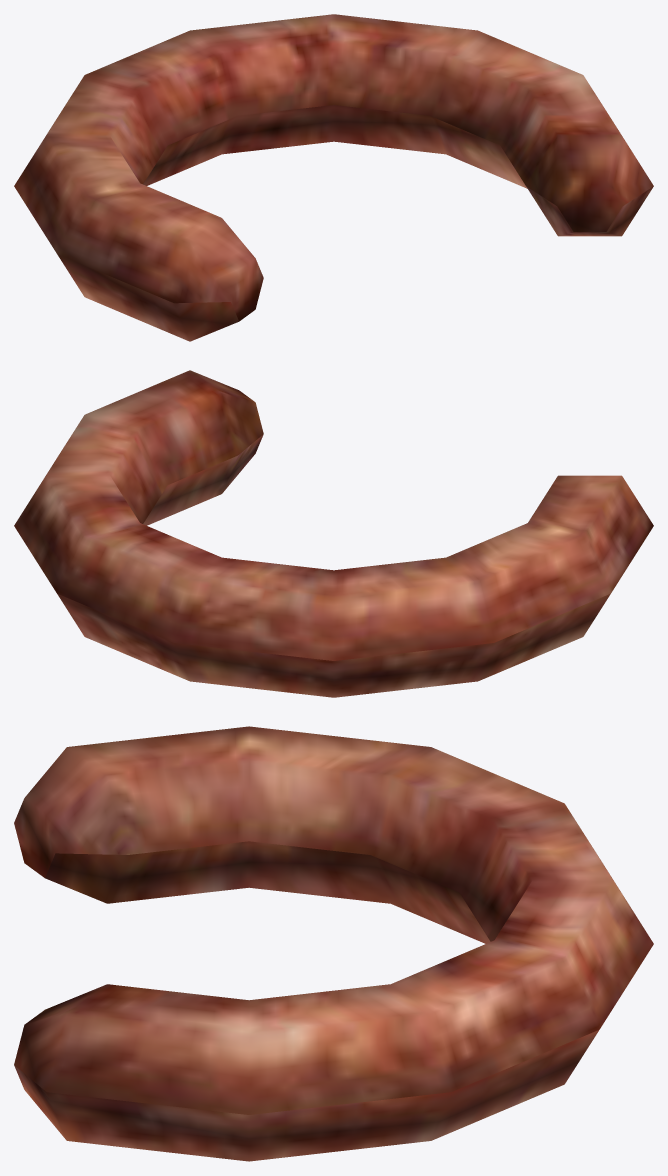
Rendered from food-sausage.glb.
3 views of the same model, one above another, from view 1: azimuth 30°, elevation 25°; view 2: azimuth 150°, elevation 25°; view 3: azimuth 270°, elevation 25° (orthographic). The views are drawn at different scales.
Parts seen in each view (by area): view 1: sausage; view 2: sausage; view 3: sausage.
Boxes of the visible parts, box(x1,y1,x2,y2) form: sausage: box(14, 14, 653, 341); sausage: box(14, 370, 653, 697); sausage: box(14, 726, 653, 1161).
Size of the model in its own units: 0.375 by 0.065 by 0.2964.
1 material, 1 textured.
